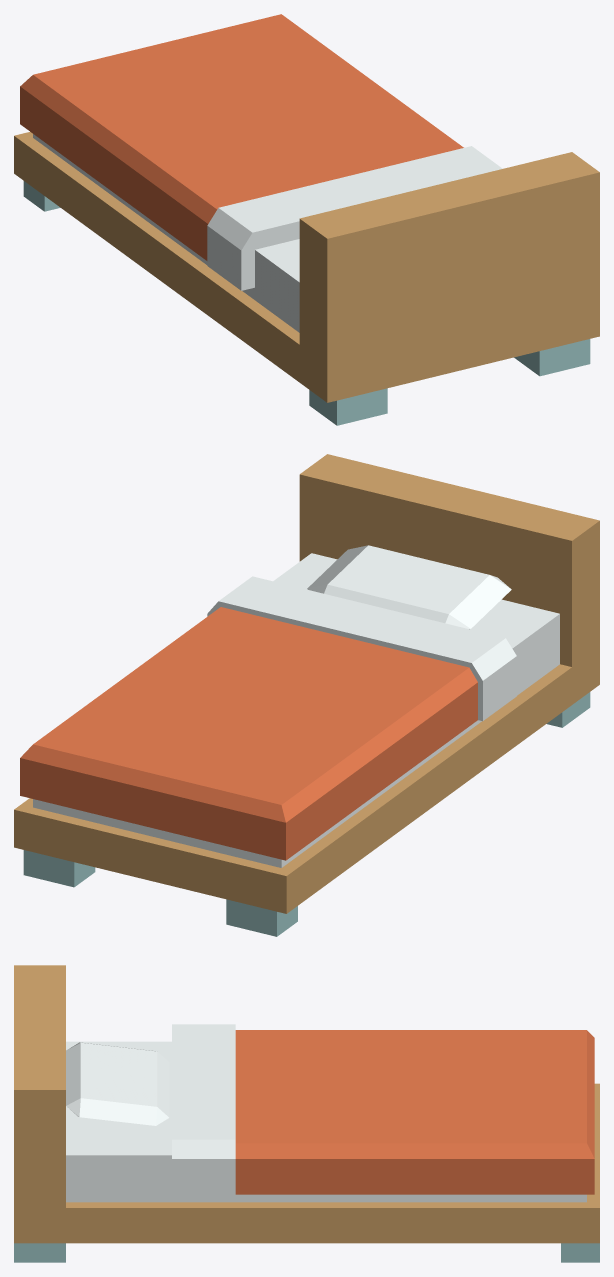
File: bedSingle.glb
3 renders of one model, top to bottom at view 1: azimuth 30°, elevation 25°; view 2: azimuth 150°, elevation 25°; view 3: azimuth 270°, elevation 25°, orthographic. The views are drawn at different scales.
Bounding box in the file's own units: 5.71 × 3.75 × 11.25.
